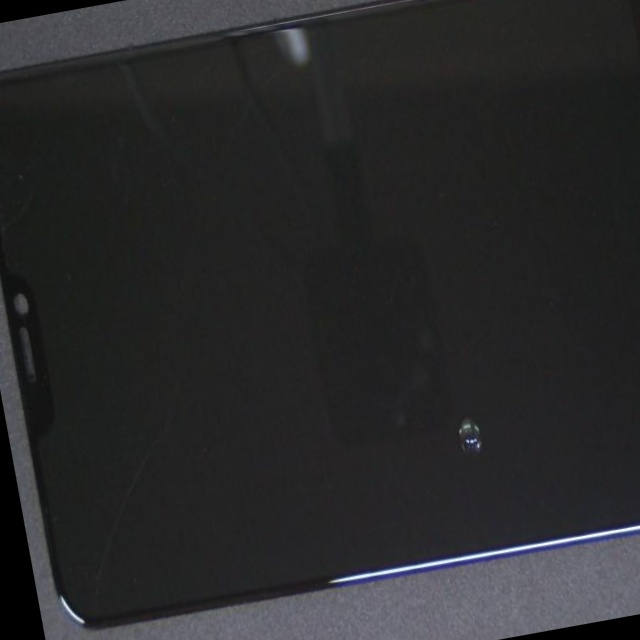oil: (206, 122, 640, 640)
